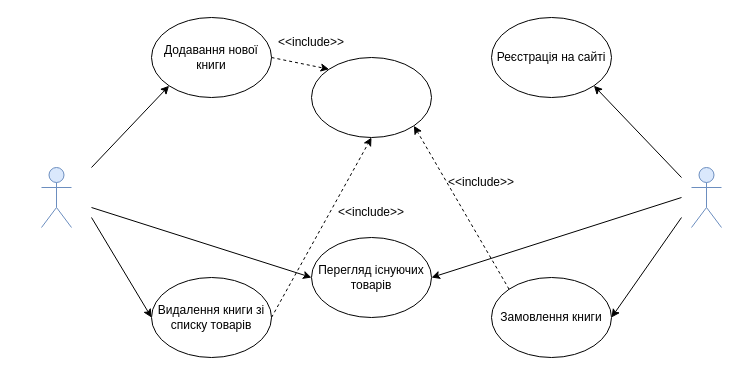
Image size: 741x375. Some labels were removed from this diagram. Here are the shapes that lost their labels. From the top down, the centre of each, then its label:
At (371,97): "Авторизація".
At (56,197): "Адміністратор".
At (706,197): "Клієнт".
